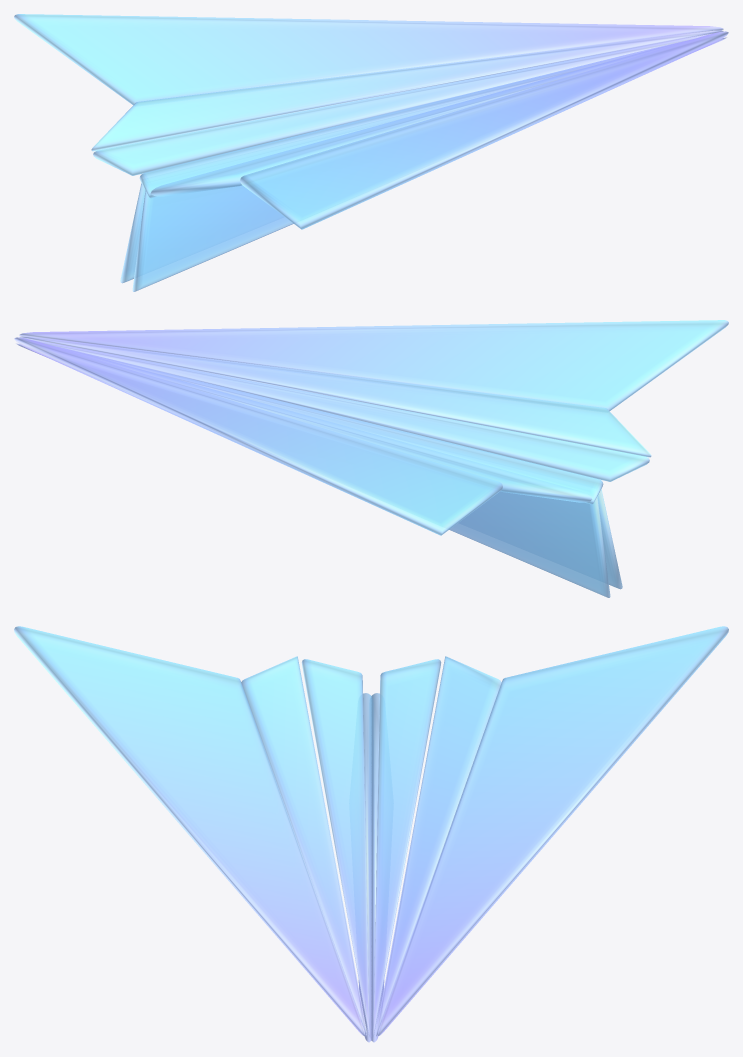
The model's file is paper-plane.glb.
The picture shows the model from 3 angles, top to bottom: view 1: azimuth 30°, elevation 25°; view 2: azimuth 150°, elevation 25°; view 3: azimuth 270°, elevation 25°; orthographic projection. The views are drawn at different scales.
Visible parts, largest first — view 1: geometry_0; view 2: geometry_0; view 3: geometry_0.
Part boxes in pixels (x1,y1,x2,y2): geometry_0: (14, 14, 728, 291); geometry_0: (14, 320, 728, 597); geometry_0: (14, 626, 728, 1042).
Size of the model in its own units: 2 by 0.5131 by 1.64.
